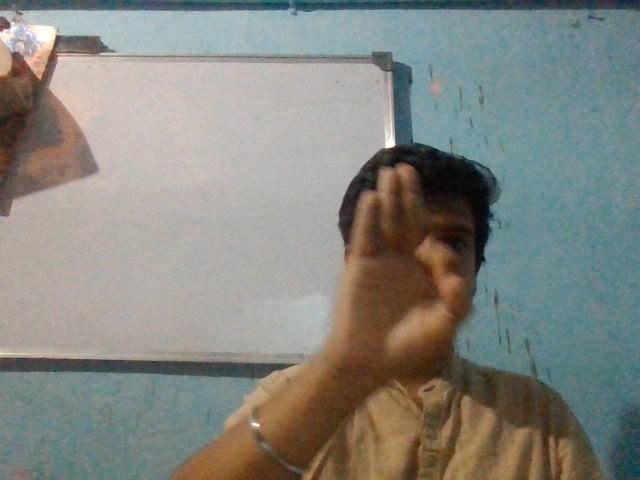Chin: (329, 150, 477, 389)
